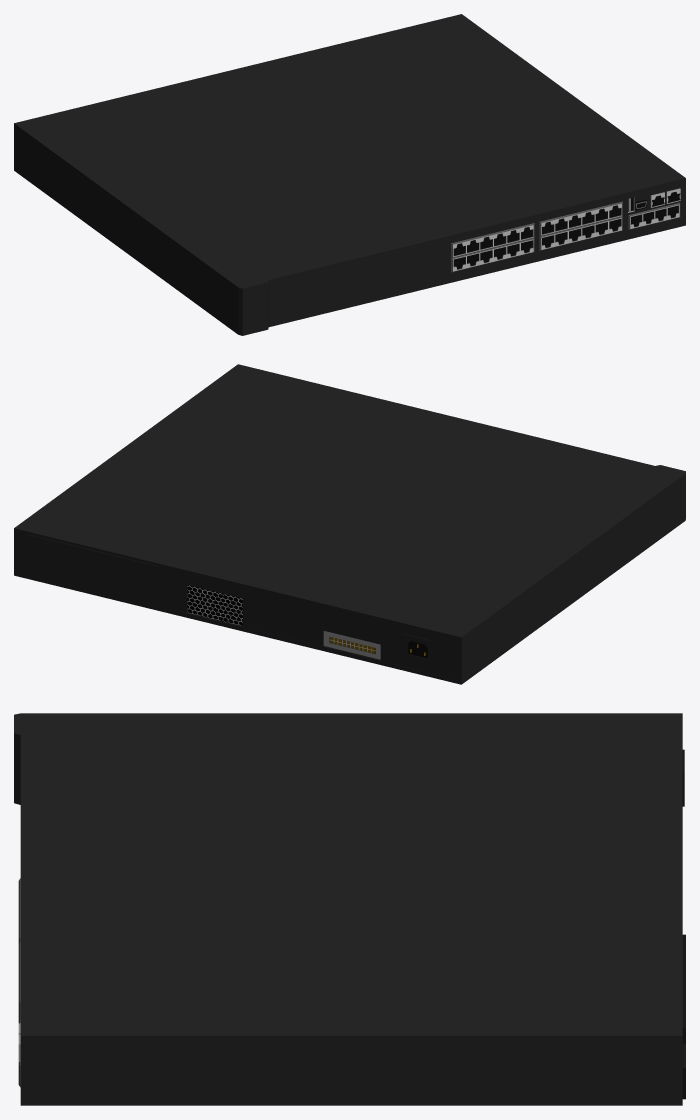
File: CISCO_WS_C2960-24PS_L.fbx
The picture shows the model from 3 angles, top to bottom: view 1: azimuth 30°, elevation 25°; view 2: azimuth 150°, elevation 25°; view 3: azimuth 270°, elevation 25°; orthographic projection. The views are drawn at different scales.
Parts seen in each view (by area): view 1: CISCO_WS_C2960-24PS_L; view 2: CISCO_WS_C2960-24PS_L; view 3: CISCO_WS_C2960-24PS_L.
Boxes of the visible parts, bbox=[...] form: CISCO_WS_C2960-24PS_L: bbox=[14, 14, 685, 335]; CISCO_WS_C2960-24PS_L: bbox=[14, 364, 685, 684]; CISCO_WS_C2960-24PS_L: bbox=[14, 713, 685, 1105].
Size of the model in its own units: 445 by 45 by 392.
15 materials, 1 textured.
